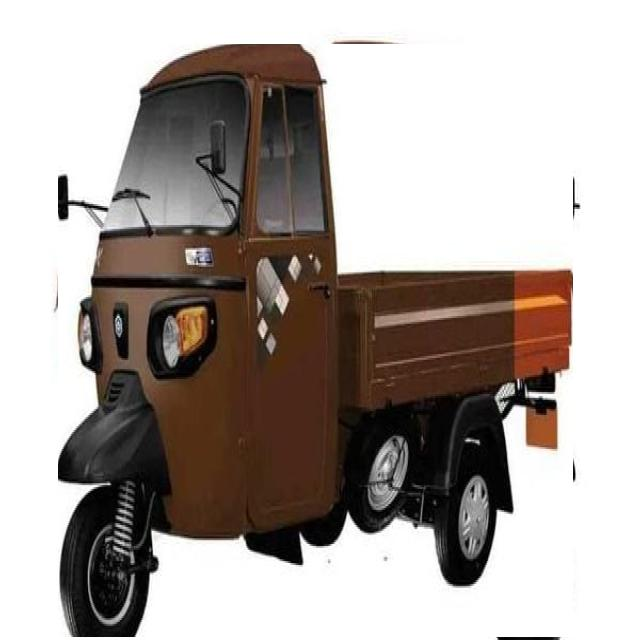autorickshaw: (59, 44, 573, 637)
